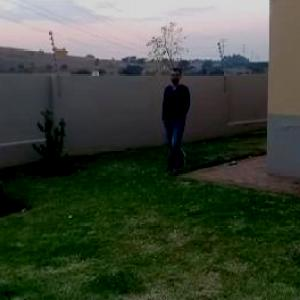follow: (161, 64, 199, 174)
